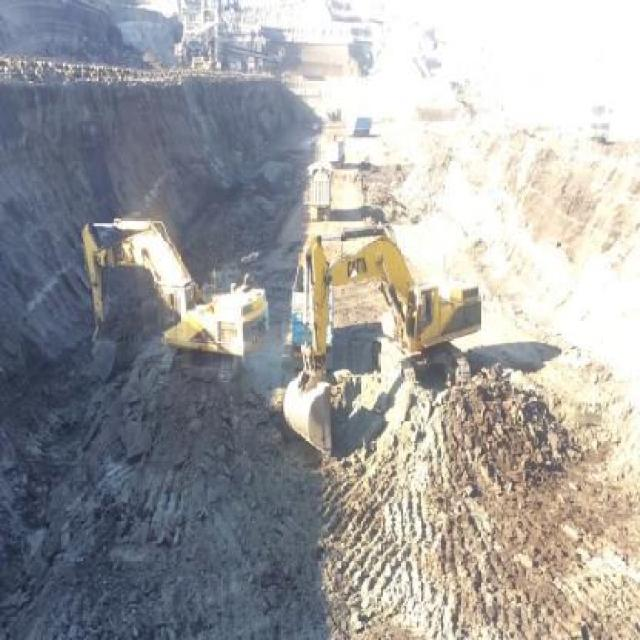dump_truck: (303, 163, 331, 217), (322, 140, 347, 158), (353, 118, 372, 136)
excavator: (279, 238, 483, 460), (78, 212, 268, 386)
